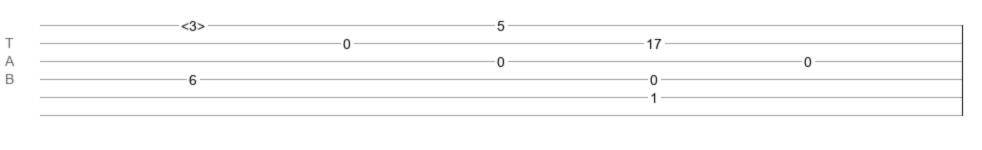0: (343, 36, 351, 46), (497, 54, 505, 64), (650, 72, 658, 82), (804, 54, 812, 64)
1: (650, 90, 658, 100)
17: (646, 36, 662, 46)
5: (497, 18, 505, 28)
6: (189, 72, 197, 82)
harmonic: (181, 18, 205, 28)
